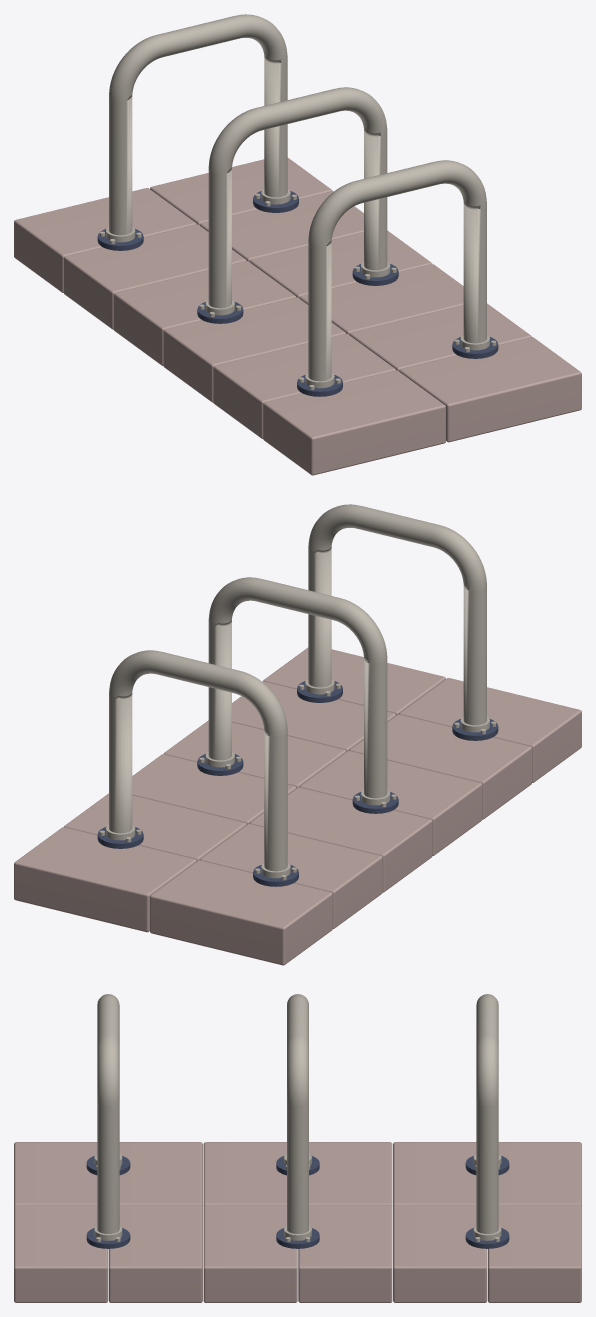
Rendered from prop.bike-rack.glb.
3 renders of one model, top to bottom at view 1: azimuth 30°, elevation 25°; view 2: azimuth 150°, elevation 25°; view 3: azimuth 270°, elevation 25°, orthographic. The views are drawn at different scales.
Visible parts, largest first — view 1: body, object 2; view 2: body, object 2; view 3: body, object 2.
Boxes of the visible parts, box(x1,y1,x2,y2) form: body: box(14, 157, 581, 475); object 2: box(97, 14, 498, 396); body: box(14, 647, 581, 965); object 2: box(97, 504, 498, 886); body: box(14, 1142, 581, 1302); object 2: box(86, 994, 509, 1248).
Bounding box in the file's own units: 1.26 × 1.04 × 2.4.
